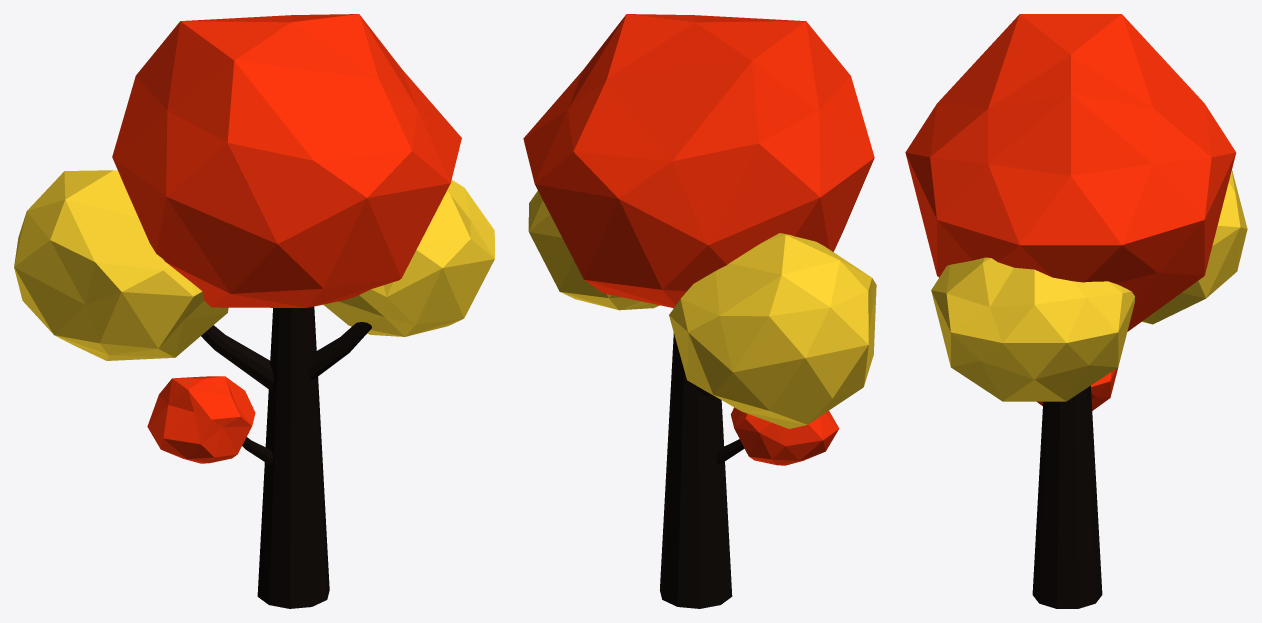
The model's file is autumn-tree.glb.
3 views of the same model, side by side, from view 1: azimuth 30°, elevation 25°; view 2: azimuth 150°, elevation 25°; view 3: azimuth 270°, elevation 25° (orthographic). The views are drawn at different scales.
Parts seen in each view (by area): view 1: leaves, branches; view 2: leaves, branches; view 3: leaves, branches.
Boxes of the visible parts, box(x1,y1,x2,y2) form: leaves: box(14, 14, 494, 463); branches: box(201, 306, 371, 608); leaves: box(523, 14, 876, 465); branches: box(660, 333, 744, 608); leaves: box(905, 14, 1247, 410); branches: box(1032, 385, 1102, 608).
Bounding box in the file's own units: 0.6763 × 0.9411 × 0.5387.
